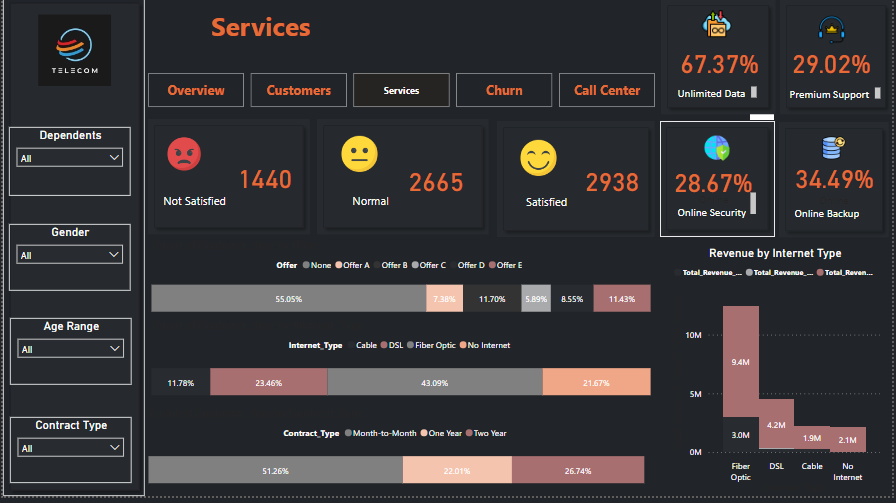

Layout of this report page (visuals, bound fields, positions):
{"tool":"powerbi","page":{"name":"Services ","canvas":[1280,720],"ordinal":2},"visuals":[{"type":"shape","box":[0,0,204.5,720],"z":0},{"type":"slicer","title":"Dependents","fields":{"Values":["Dim_Customers.Dependents"]},"box":[9.2,188.5,175.4,99.5],"z":1000},{"type":"slicer","title":"Gender ","fields":{"Values":["Dim_Customers.Gender"]},"box":[8.3,328.9,174.8,96.3],"z":2000},{"type":"slicer","title":"Contract Type","fields":{"Values":["Dim_Contracts.Contract_Type"]},"box":[9.6,605.6,174.8,95],"z":3000},{"type":"image","box":[31.4,22.3,142.7,112.6],"z":4000},{"type":"textbox","box":[217.1,12.9,307.1,75.7],"z":5000},{"type":"pageNavigator","box":[208.9,111.3,733.6,49.5],"z":6000},{"type":"shape","box":[1118,182,158.4,166.3],"z":7000},{"type":"shape","box":[208.6,177.1,232.9,165.7],"z":8000},{"type":"shape","box":[711.4,180,227.1,167.1],"z":9000},{"type":"shape","box":[452.9,177.1,247.1,165.7],"z":10000},{"type":"image","box":[231.7,193.7,57.6,66.8],"z":11000},{"type":"textbox","box":[211.4,280,128.6,35.7],"z":12000},{"type":"card","fields":{"Values":["Measure.Not Satisfacied"]},"box":[312.9,211.4,128.6,97.1],"z":13000},{"type":"card","fields":{"Values":["Measure.Normal"]},"box":[565.7,213.3,115.6,103.2],"z":14000},{"type":"image","box":[483.1,195.1,61.5,66.8],"z":15000},{"type":"textbox","box":[465.7,280,128.6,35.7],"z":16000},{"type":"card","fields":{"Values":["Measure.Satisfacied"]},"box":[823.4,213.4,106,103.4],"z":17000},{"type":"image","box":[739.6,200.3,61.5,66.8],"z":18000},{"type":"textbox","box":[718.6,281.4,128.6,44.3],"z":19000},{"type":"shape","box":[946.5,180.7,164.9,166.3],"z":20000},{"type":"shape","box":[1118.4,4.3,161.6,166],"z":21000},{"type":"shape","box":[948.1,4.3,164.5,166],"z":22000},{"type":"card","fields":{"Values":["Measure.Measure 3"]},"box":[961.1,230.9,124.1,72.2],"z":23000},{"type":"textbox","box":[966.1,277.5,123.1,51.1],"z":24000},{"type":"image","box":[1005.4,192.4,45.8,51.1],"z":25000},{"type":"card","fields":{"Values":["Measure.Online_Backup"]},"box":[1135,231.7,124.4,56.3],"z":26000},{"type":"textbox","box":[966.1,125.7,124.4,34],"z":27000},{"type":"image","box":[1175.6,197.7,43.2,43.2],"z":28000},{"type":"image","box":[1001.5,13.1,55,53.7],"z":29000},{"type":"card","fields":{"Values":["Measure.Unlimited_Data"]},"box":[968.7,64.1,124.4,58.9],"z":30000},{"type":"textbox","box":[1135,278.8,124.4,49.7],"z":31000},{"type":"image","box":[1166.4,20.9,53.7,55],"z":32000},{"type":"card","fields":{"Values":["Measure.Premium_Support"]},"box":[1129.7,64.1,124.4,58.9],"z":33000},{"type":"textbox","box":[1127.1,127,141.4,34],"z":34000},{"type":"hundredPercentStackedBarChart","fields":{"Y":["CountNonNull(Dim_Customers.Customer_Key)"],"Series":["Dim_Customers.Offer"]},"box":[209.2,347.8,728.7,118.3],"z":35000},{"type":"hundredPercentStackedBarChart","fields":{"Y":["CountNonNull(Dim_Customers.Customer_Key)"],"Series":["Dim_Internet_Service_Details.Internet_Type"]},"box":[209.2,463.2,728.7,128.4],"z":36000},{"type":"hundredPercentStackedBarChart","fields":{"Y":["CountNonNull(Dim_Customers.Customer_Key)"],"Series":["Dim_Contracts.Contract_Type"]},"box":[204.9,590.2,724.4,128.4],"z":37000},{"type":"columnChart","title":"Revenue by Internet Type","fields":{"Category":["Dim_Internet_Service_Details.Internet_Type"],"Y":["Measure.Total_Revenue_Churn","Measure.Total_Revenue_Join","Measure.Total_Revenue_Stay"]},"box":[956.8,359.3,311.7,360.8],"z":38000},{"type":"slicer","title":"Age Range ","fields":{"Values":["Dim_Customers.Age_Group"]},"box":[9.6,463.8,174.8,96.3],"z":39000}]}

Visuals, with their boxes in screenshot pixels (x1, y1, x2, y2), scaled from the page's 1280x720 canvas onto the 896x503 screenshot:
shape: <bbox>0, 0, 143, 502</bbox>
"Dependents" slicer: <bbox>6, 132, 129, 201</bbox>
"Gender " slicer: <bbox>6, 230, 128, 297</bbox>
"Contract Type" slicer: <bbox>7, 423, 129, 489</bbox>
image: <bbox>22, 16, 122, 94</bbox>
textbox: <bbox>152, 9, 367, 62</bbox>
pageNavigator: <bbox>146, 78, 660, 112</bbox>
shape: <bbox>783, 127, 893, 243</bbox>
shape: <bbox>146, 124, 309, 239</bbox>
shape: <bbox>498, 126, 657, 242</bbox>
shape: <bbox>317, 124, 490, 239</bbox>
image: <bbox>162, 135, 203, 182</bbox>
textbox: <bbox>148, 196, 238, 221</bbox>
card - Measure.Not Satisfacied: <bbox>219, 148, 309, 216</bbox>
card - Measure.Normal: <bbox>396, 149, 477, 221</bbox>
image: <bbox>338, 136, 381, 183</bbox>
textbox: <bbox>326, 196, 416, 221</bbox>
card - Measure.Satisfacied: <bbox>576, 149, 651, 221</bbox>
image: <bbox>518, 140, 561, 187</bbox>
textbox: <bbox>503, 197, 593, 228</bbox>
shape: <bbox>663, 126, 778, 242</bbox>
shape: <bbox>783, 3, 895, 119</bbox>
shape: <bbox>664, 3, 779, 119</bbox>
card - Measure.Measure 3: <bbox>673, 161, 760, 212</bbox>
textbox: <bbox>676, 194, 762, 230</bbox>
image: <bbox>704, 134, 736, 170</bbox>
card - Measure.Online_Backup: <bbox>794, 162, 882, 201</bbox>
textbox: <bbox>676, 88, 763, 112</bbox>
image: <bbox>823, 138, 853, 168</bbox>
image: <bbox>701, 9, 740, 47</bbox>
card - Measure.Unlimited_Data: <bbox>678, 45, 765, 86</bbox>
textbox: <bbox>794, 195, 882, 229</bbox>
image: <bbox>816, 15, 854, 53</bbox>
card - Measure.Premium_Support: <bbox>791, 45, 878, 86</bbox>
textbox: <bbox>789, 89, 888, 112</bbox>
hundredPercentStackedBarChart - CountNonNull(Dim_Customers.Customer_Key) x Dim_Customers.Offer: <bbox>146, 243, 657, 326</bbox>
hundredPercentStackedBarChart - CountNonNull(Dim_Customers.Customer_Key) x Dim_Internet_Service_Details.Internet_Type: <bbox>146, 324, 657, 413</bbox>
hundredPercentStackedBarChart - CountNonNull(Dim_Customers.Customer_Key) x Dim_Contracts.Contract_Type: <bbox>143, 412, 651, 502</bbox>
"Revenue by Internet Type" columnChart: <bbox>670, 251, 888, 502</bbox>
"Age Range " slicer: <bbox>7, 324, 129, 391</bbox>
